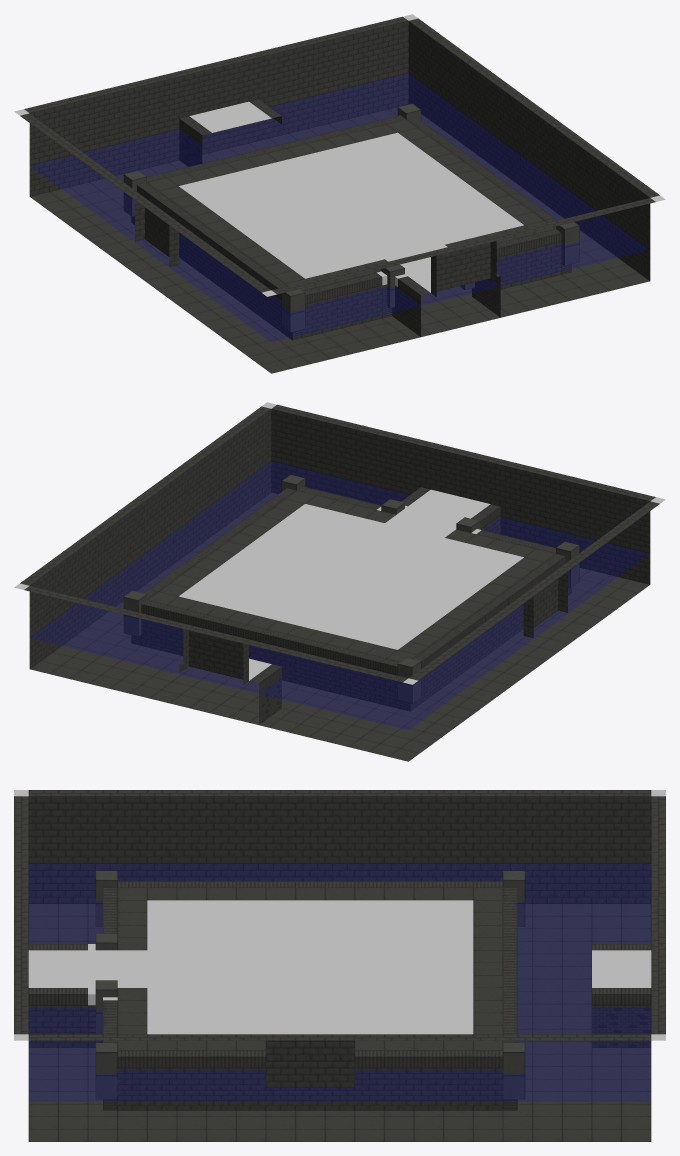
The model's file is StartRoom.fbx.
The picture shows the model from 3 angles, top to bottom: view 1: azimuth 30°, elevation 25°; view 2: azimuth 150°, elevation 25°; view 3: azimuth 270°, elevation 25°; orthographic projection. The views are drawn at different scales.
Visible parts, largest first — view 1: Floor, Wall, Water, Basement, Entrance_N, Floor_N, Entrance_S, Entrance_E, Entrance_W; view 2: Floor, Wall, Water, Basement, Entrance_S, Entrance_N, Entrance_E, Floor_N, Entrance_W; view 3: Floor, Wall, Water, Basement, Floor_N, Entrance_W, Entrance_E, Entrance_N, Entrance_S.
Boxes of the visible parts, x1,y1,x2,y2 form: Floor: [123, 103, 579, 340]; Wall: [14, 14, 665, 296]; Water: [31, 73, 648, 341]; Basement: [30, 106, 649, 373]; Entrance_N: [184, 55, 248, 115]; Floor_N: [179, 99, 281, 166]; Entrance_S: [431, 237, 495, 291]; Entrance_E: [523, 103, 567, 171]; Entrance_W: [135, 197, 178, 256]; Floor: [123, 474, 579, 711]; Wall: [14, 402, 665, 684]; Water: [31, 461, 648, 729]; Basement: [30, 492, 649, 761]; Entrance_S: [431, 443, 495, 503]; Entrance_N: [184, 625, 248, 679]; Entrance_E: [135, 474, 179, 542]; Floor_N: [179, 658, 281, 724]; Entrance_W: [524, 568, 567, 627]; Floor: [28, 870, 525, 1110]; Wall: [14, 790, 665, 1040]; Water: [29, 864, 650, 1100]; Basement: [28, 904, 651, 1141]; Floor_N: [592, 944, 651, 1047]; Entrance_W: [266, 790, 354, 849]; Entrance_E: [266, 1034, 354, 1087]; Entrance_N: [651, 896, 665, 934]; Entrance_S: [14, 896, 28, 934].
Size of the model in its own units: 40 by 8 by 44.
